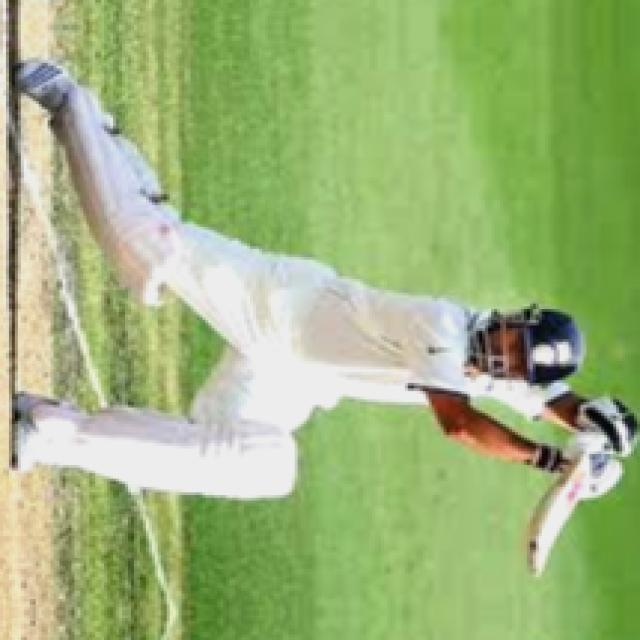bat: (515, 453, 610, 586)
toe: (525, 535, 545, 574)
